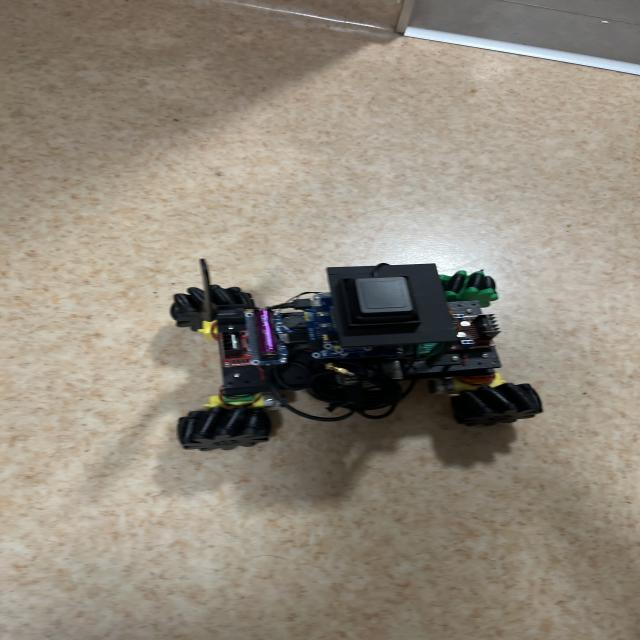robot: (170, 259, 543, 451)
